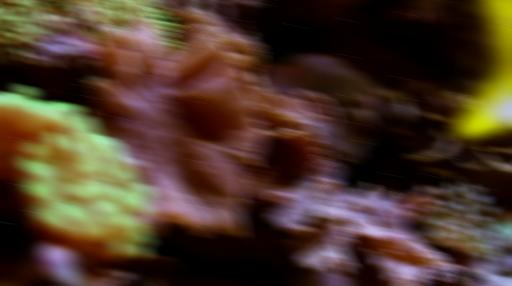Fish: (451, 0, 511, 142)
